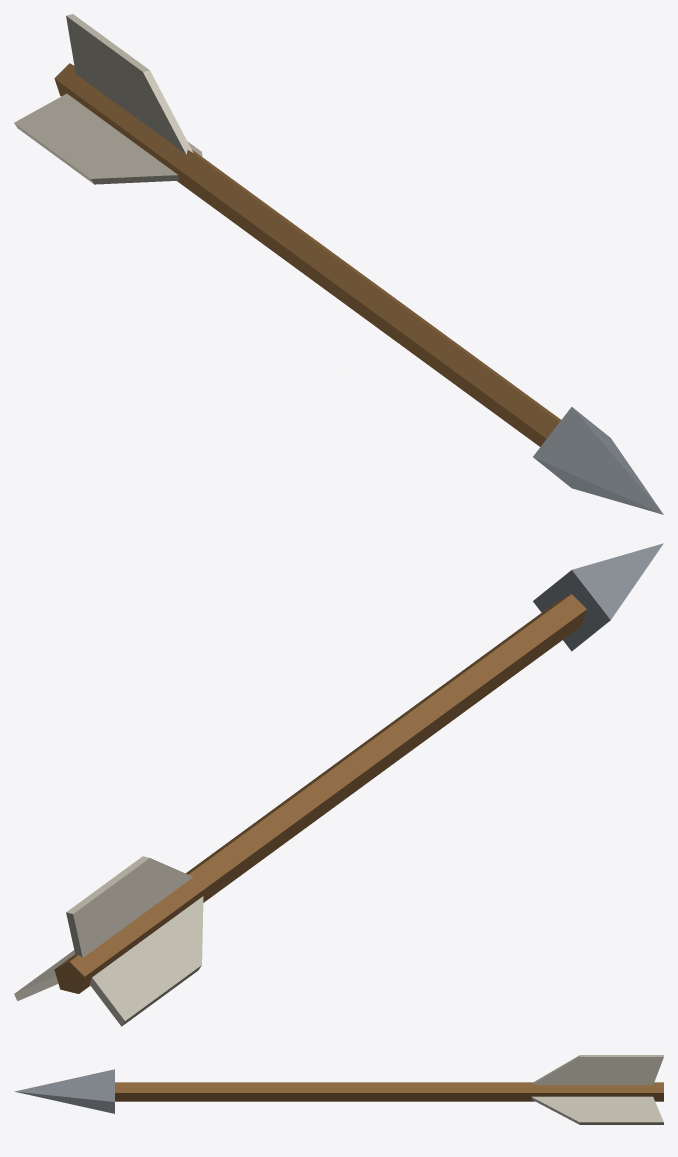
The model's file is arrow.glb.
3 views of the same model, one above another, from view 1: azimuth 30°, elevation 25°; view 2: azimuth 150°, elevation 25°; view 3: azimuth 270°, elevation 25° (orthographic). The views are drawn at different scales.
Visible parts, largest first — view 1: Arrow; view 2: Arrow; view 3: Arrow.
Part boxes in pixels (x1,y1,x2,y2): Arrow: [14, 14, 663, 514]; Arrow: [14, 543, 663, 1026]; Arrow: [15, 1055, 663, 1142].
Bounding box in the file's own units: 0.0626 × 0.085 × 0.58.
